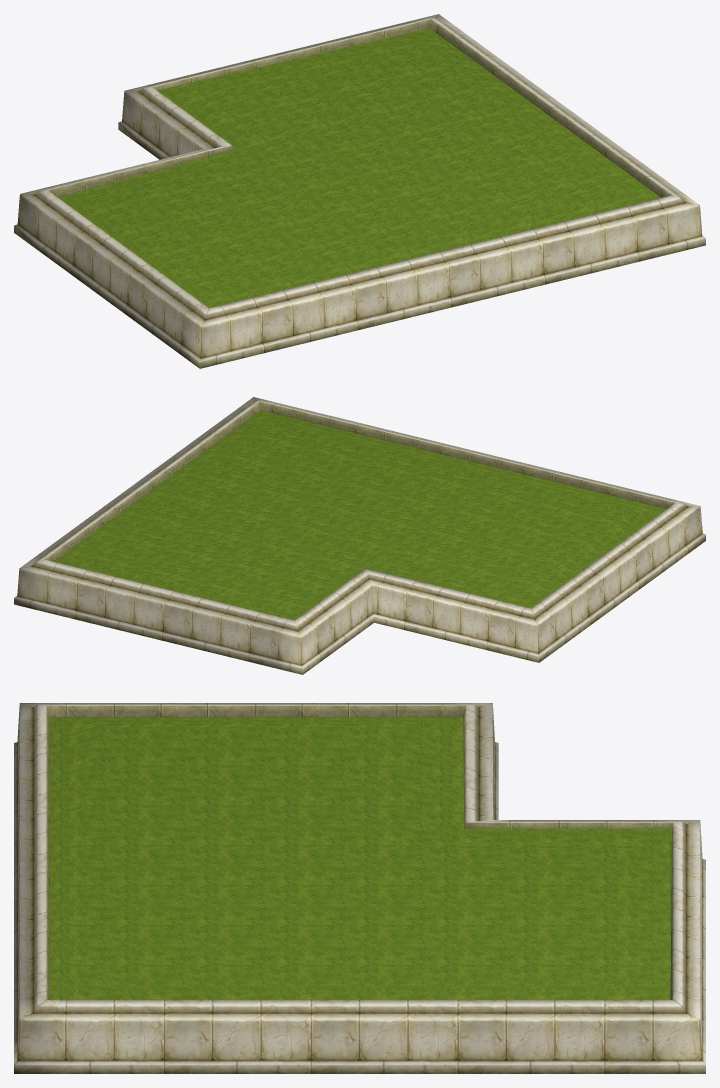
File: a_SWTpart05.glb
3 views of the same model, one above another, from view 1: azimuth 30°, elevation 25°; view 2: azimuth 150°, elevation 25°; view 3: azimuth 270°, elevation 25° (orthographic). The views are drawn at different scales.
Visible parts, largest first — view 1: a_SWTpart05; view 2: a_SWTpart05; view 3: a_SWTpart05.
Part boxes in pixels (x1=…): a_SWTpart05: x1=14, y1=14, x2=705, y2=368; a_SWTpart05: x1=14, y1=397, x2=705, y2=674; a_SWTpart05: x1=14, y1=703, x2=705, y2=1073.
Size of the model in its own units: 11 by 0.9592 by 10.
Materials: 3 (3 with a texture image).
